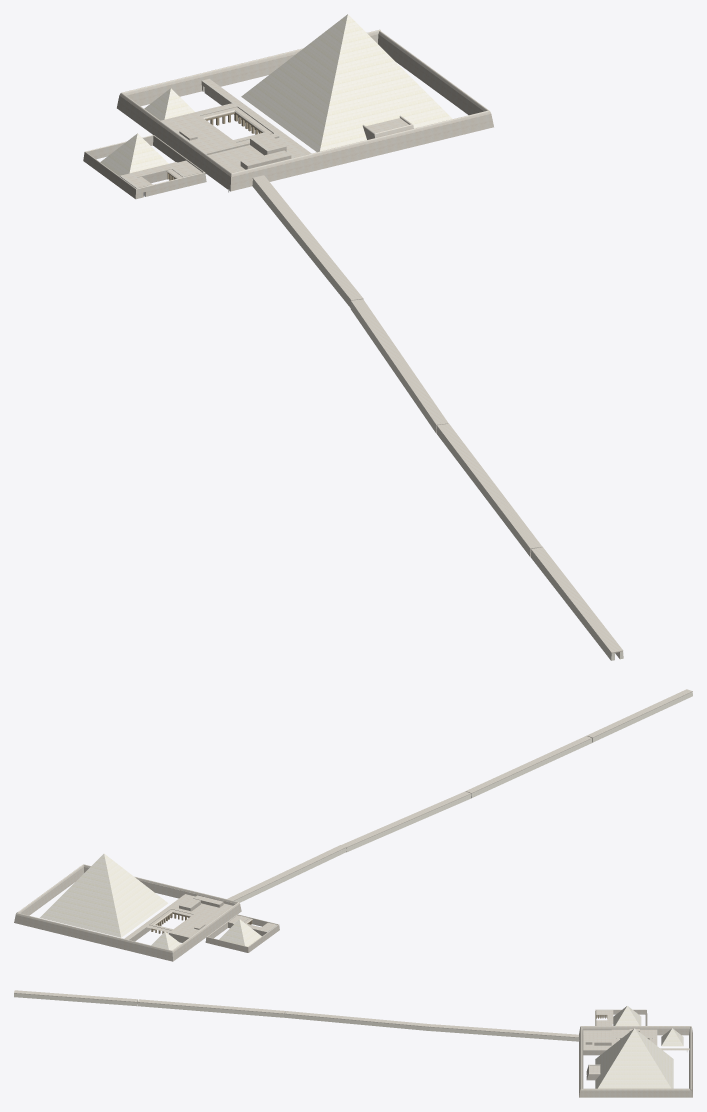
File: Userkaf_Pyramid.glb
3 renders of one model, top to bottom at view 1: azimuth 30°, elevation 25°; view 2: azimuth 150°, elevation 25°; view 3: azimuth 270°, elevation 25°, orthographic. The views are drawn at different scales.
Parts seen in each view (by area): view 1: Mesh2 Model, Mesh1 Model, Mesh4 Model, Mesh10 Model, Mesh5 Model, Mesh12 Model, Mesh6 Model; view 2: Mesh2 Model, Mesh1 Model, Mesh4 Model, Mesh12 Model, Mesh5 Model, Mesh10 Model, Mesh6 Model; view 3: Mesh1 Model, Mesh2 Model, Mesh4 Model, Mesh9 Model, Mesh11 Model, Mesh8 Model, Mesh10 Model, Mesh5 Model, Mesh12 Model, Mesh7 Model, Mesh6 Model, Mesh3 Model.
Part boxes in pixels (x1=…): Mesh2 Model: x1=117, y1=29, x2=493, y2=191; Mesh1 Model: x1=241, y1=14, x2=452, y2=152; Mesh4 Model: x1=83, y1=133, x2=206, y2=199; Mesh10 Model: x1=252, y1=175, x2=363, y2=307; Mesh5 Model: x1=436, y1=423, x2=542, y2=556; Mesh12 Model: x1=350, y1=299, x2=448, y2=432; Mesh6 Model: x1=530, y1=547, x2=623, y2=660; Mesh2 Model: x1=14, y1=864, x2=241, y2=961; Mesh1 Model: x1=40, y1=853, x2=167, y2=937; Mesh4 Model: x1=205, y1=914, x2=279, y2=952; Mesh12 Model: x1=341, y1=791, x2=471, y2=851; Mesh5 Model: x1=466, y1=736, x2=591, y2=798; Mesh10 Model: x1=227, y1=845, x2=346, y2=902; Mesh6 Model: x1=586, y1=689, x2=692, y2=742; Mesh1 Model: x1=586, y1=1028, x2=673, y2=1088; Mesh2 Model: x1=579, y1=1026, x2=692, y2=1097; Mesh4 Model: x1=595, y1=1006, x2=647, y2=1025; Mesh9 Model: x1=430, y1=1027, x2=578, y2=1041; Mesh11 Model: x1=137, y1=1002, x2=284, y2=1017; Mesh8 Model: x1=284, y1=1014, x2=430, y2=1030; Mesh10 Model: x1=431, y1=1024, x2=578, y2=1037; Mesh5 Model: x1=138, y1=999, x2=285, y2=1013; Mesh12 Model: x1=284, y1=1011, x2=431, y2=1027; Mesh7 Model: x1=14, y1=993, x2=137, y2=1006; Mesh6 Model: x1=14, y1=990, x2=137, y2=1003; Mesh3 Model: x1=661, y1=1028, x2=683, y2=1046.
Size of the model in its own units: 242 by 54.92 by 636.
Materials: 11 (8 with a texture image).
